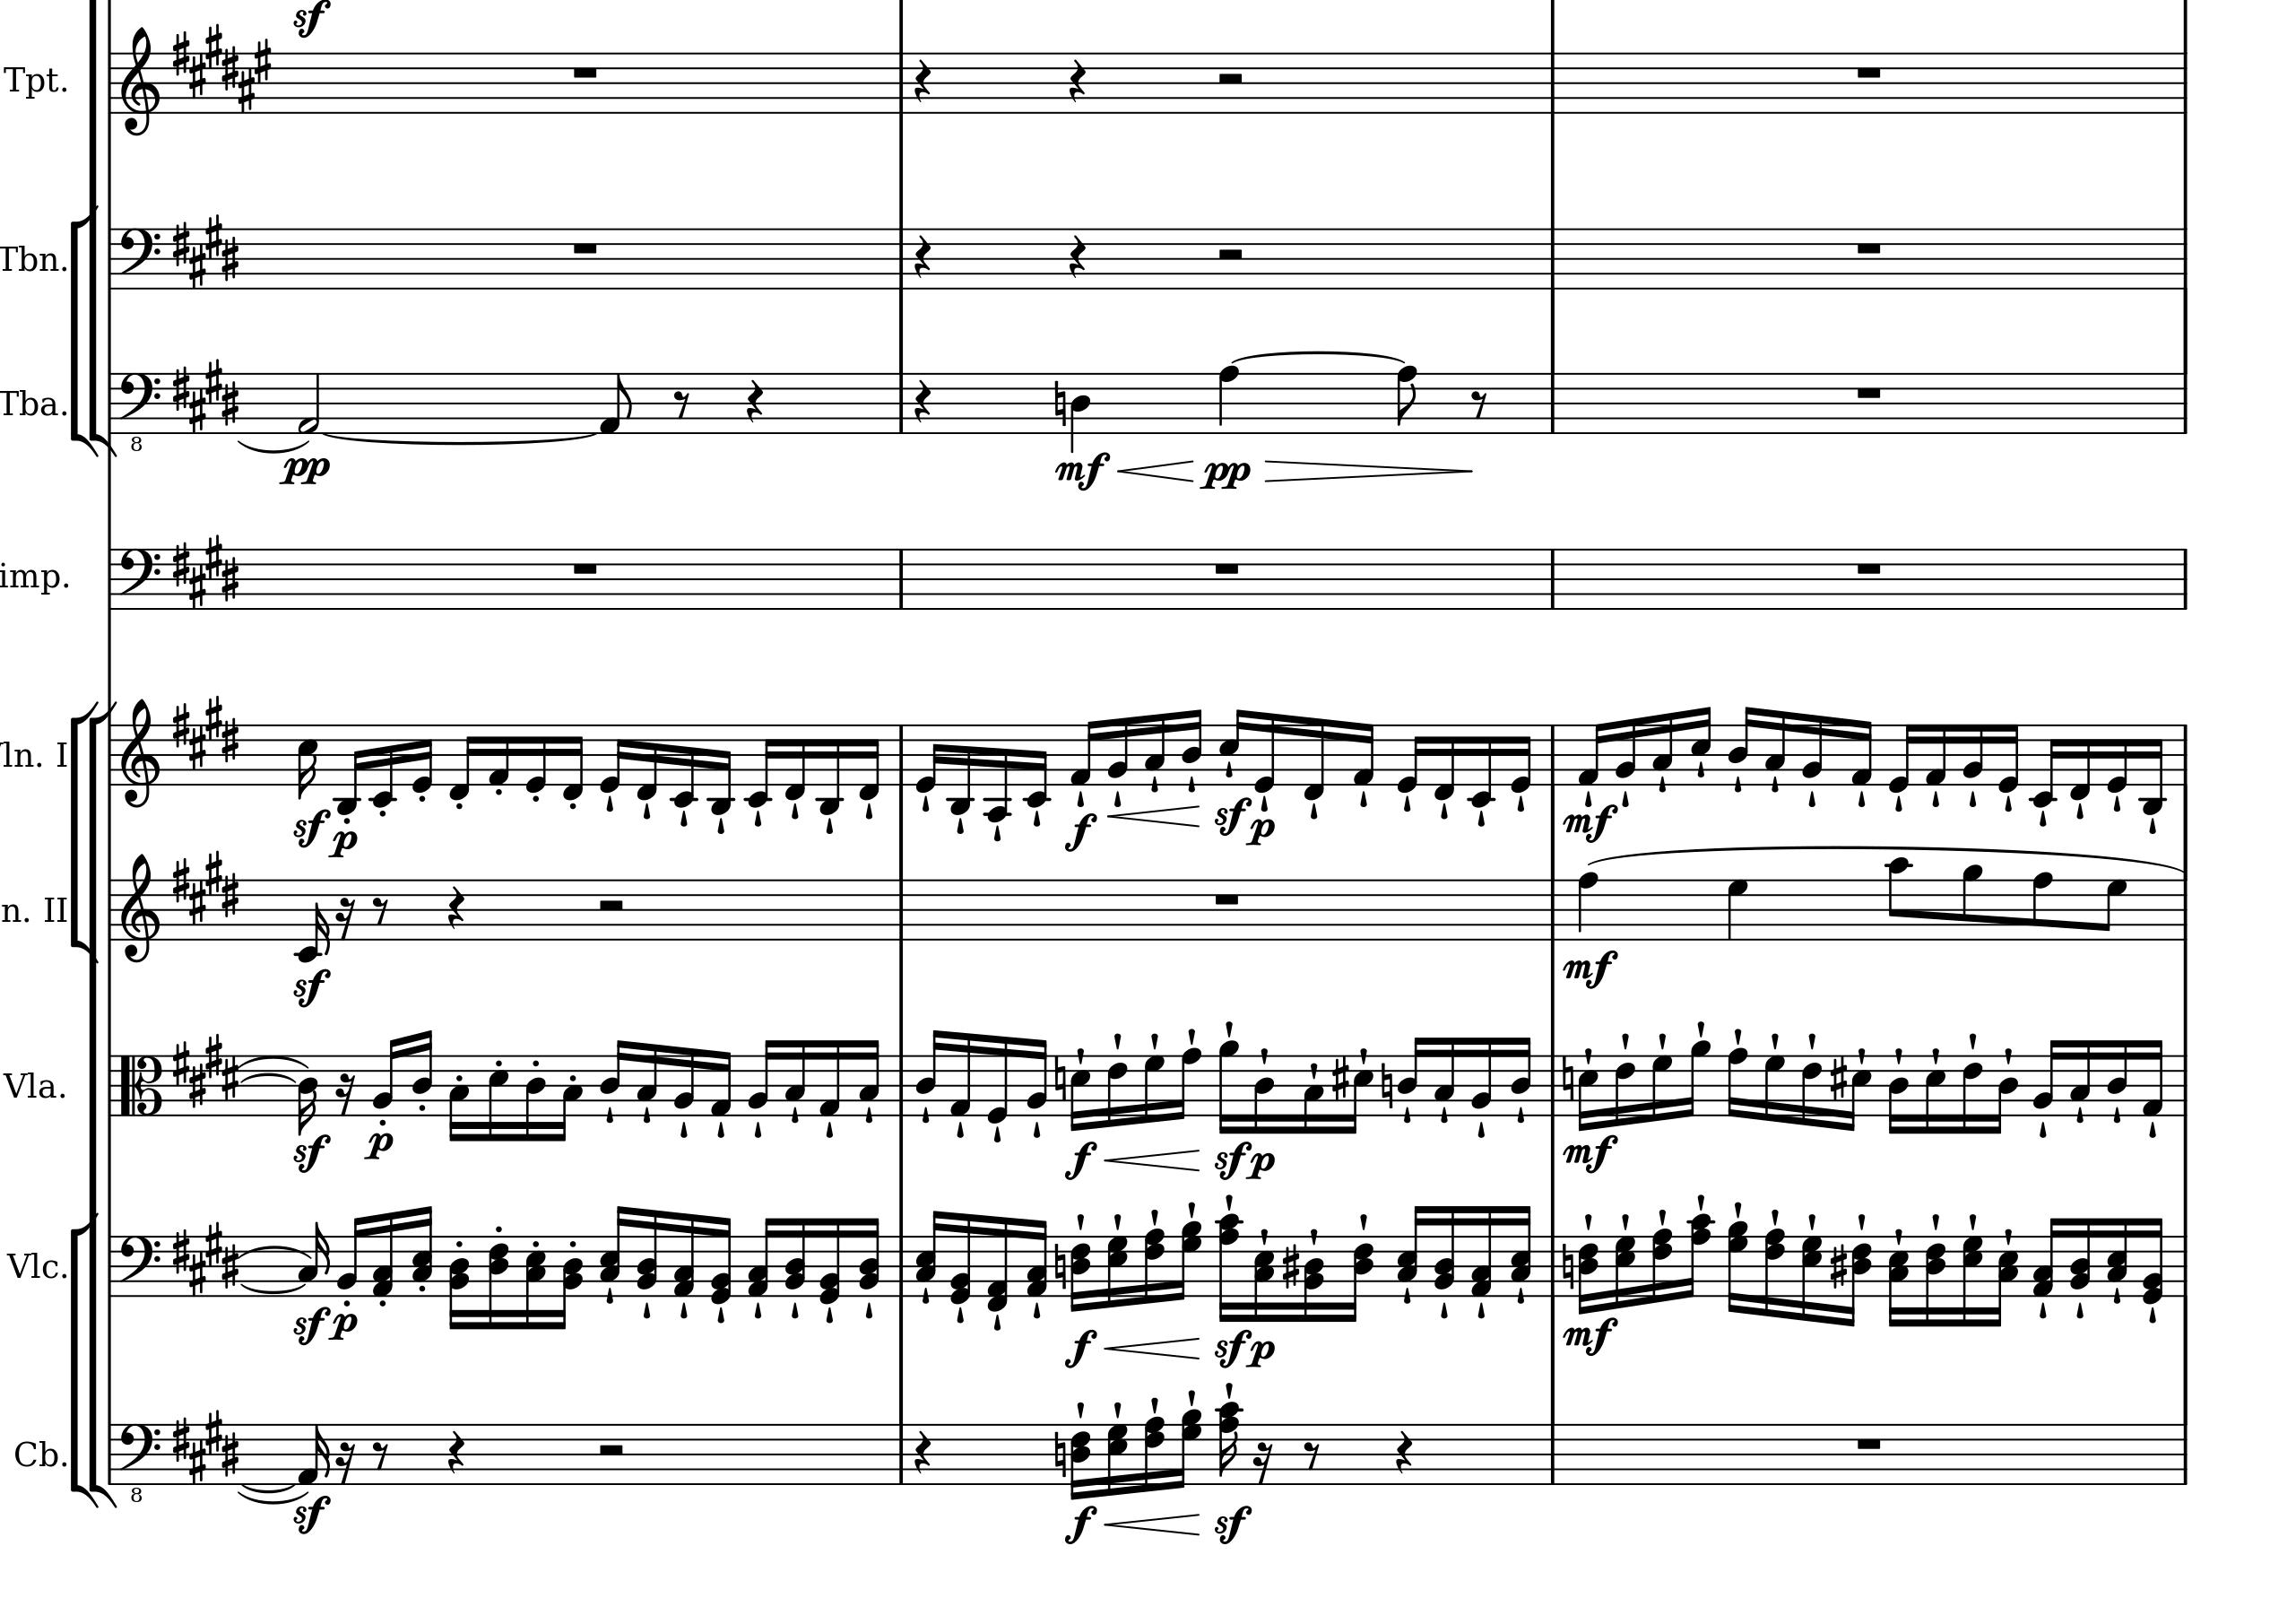16_-1: (448, 722, 478, 801), (1302, 715, 1326, 801), (560, 722, 585, 801), (634, 722, 659, 801), (857, 722, 882, 801), (2068, 722, 2092, 801), (783, 722, 806, 801), (1433, 722, 1456, 801)
16_-1_1: (986, 1214, 1012, 1313)
16_-2: (293, 877, 330, 961), (2029, 722, 2061, 808), (745, 722, 775, 808), (369, 722, 395, 808), (671, 722, 697, 807), (1467, 722, 1493, 807), (1024, 722, 1049, 808)
16_-3: (334, 722, 364, 814), (815, 721, 841, 816), (947, 722, 973, 814), (708, 722, 733, 816), (2140, 722, 2164, 816)
16_-4: (984, 721, 1010, 821)
16_0: (1885, 722, 1917, 793), (597, 722, 627, 794), (1395, 722, 1425, 794), (986, 1032, 1008, 1125), (1253, 710, 1277, 793), (913, 722, 942, 793), (409, 722, 434, 794), (523, 722, 548, 794), (1996, 722, 2020, 794), (1509, 722, 1534, 793), (2105, 722, 2129, 793)
16_0_2: (947, 1211, 973, 1306), (817, 1216, 843, 1306), (710, 1214, 733, 1304), (2141, 1216, 2164, 1306)
16_1: (295, 1422, 330, 1485), (1068, 717, 1100, 786), (947, 1030, 971, 1118), (817, 1037, 841, 1118), (1576, 721, 1606, 786), (1848, 717, 1874, 787), (2141, 1037, 2162, 1118), (1924, 721, 1948, 787), (708, 1048, 731, 1118), (487, 722, 511, 787), (1351, 721, 1375, 786)
16_1_3: (2031, 1216, 2062, 1297), (748, 1216, 778, 1299), (671, 1211, 697, 1299), (1469, 1206, 1493, 1299), (372, 1213, 397, 1297), (1026, 1216, 1051, 1297)
16_2: (336, 1214, 365, 1297), (371, 1035, 401, 1116), (2031, 1037, 2061, 1116), (747, 1037, 775, 1116), (1024, 1035, 1049, 1118), (1470, 1033, 1493, 1118), (1801, 712, 1825, 787), (671, 1044, 696, 1116), (1107, 715, 1130, 786), (1614, 715, 1637, 786), (1960, 721, 1985, 786)
16_2_4: (555, 1236, 583, 1332), (634, 1207, 661, 1299), (1433, 1206, 1458, 1297), (448, 1234, 471, 1330), (1303, 1234, 1326, 1325), (783, 1216, 808, 1299), (2069, 1216, 2094, 1297), (857, 1216, 880, 1299)
16_3: (297, 1220, 330, 1295), (555, 1053, 583, 1142), (1762, 707, 1787, 787), (634, 1039, 659, 1120), (2068, 1037, 2092, 1118), (857, 1037, 880, 1121), (1433, 1033, 1456, 1118), (448, 1053, 469, 1142), (783, 1037, 806, 1118), (1144, 710, 1166, 789), (1651, 710, 1674, 789), (1302, 1056, 1325, 1135)
16_3_5: (597, 1206, 627, 1297), (913, 1207, 943, 1297), (1395, 1204, 1425, 1294), (1885, 1234, 1913, 1329), (1990, 1234, 2018, 1329), (1509, 1206, 1534, 1299), (409, 1206, 434, 1297), (523, 1236, 546, 1332), (1253, 1234, 1277, 1322), (2105, 1216, 2129, 1297)
16_4: (915, 1026, 943, 1120), (597, 1037, 627, 1120), (1727, 705, 1757, 786), (1397, 1033, 1425, 1116), (1990, 1051, 2018, 1134), (1509, 1033, 1532, 1121), (525, 1053, 546, 1142), (1180, 707, 1203, 789), (1253, 1053, 1275, 1135), (1887, 1053, 1910, 1135), (411, 1028, 432, 1116), (295, 1053, 318, 1132), (2106, 1037, 2129, 1116)
16_4_6: (1344, 1234, 1375, 1323), (1845, 1234, 1874, 1327), (487, 1236, 511, 1332), (1924, 1234, 1948, 1327), (1068, 1234, 1093, 1313), (1068, 1422, 1091, 1503), (1576, 1234, 1599, 1313)
16_5: (1843, 1055, 1873, 1132), (487, 1051, 509, 1142), (1217, 707, 1245, 780), (1922, 1051, 1946, 1135), (1346, 1056, 1372, 1134), (1690, 705, 1713, 784), (1068, 1053, 1091, 1132), (295, 722, 318, 800), (1578, 1051, 1599, 1134)
16_5_7: (1799, 1234, 1825, 1323), (1960, 1234, 1985, 1329), (1105, 1234, 1130, 1308), (1105, 1422, 1130, 1496), (1611, 1232, 1634, 1306)
16_6: (1960, 1053, 1983, 1134), (1105, 1051, 1128, 1128), (1801, 1053, 1822, 1128), (1614, 1053, 1635, 1127)
16_6_8: (1764, 1227, 1787, 1322), (1144, 1227, 1166, 1304), (1142, 1415, 1165, 1492), (1650, 1227, 1672, 1304)
16_7: (1142, 1053, 1165, 1125), (1764, 1051, 1785, 1125), (1651, 1051, 1672, 1123)
16_7_9: (1725, 1220, 1750, 1315), (1175, 1220, 1202, 1301), (1173, 1408, 1200, 1487)
16_8: (1173, 1046, 1202, 1120), (1725, 1046, 1748, 1118)
16_8_10: (1214, 1211, 1242, 1323), (1679, 1209, 1715, 1299), (1214, 1401, 1242, 1485)
16_9: (1217, 1037, 1240, 1135), (1683, 1039, 1711, 1118)
2_1: (297, 371, 321, 436)
4_4: (1070, 371, 1093, 453)
4_7: (1727, 877, 1750, 940)
4_8: (1217, 364, 1240, 436), (1576, 870, 1599, 940)
8_1: (597, 373, 634, 434)
8_10: (1887, 854, 1911, 942)
8_7: (2097, 877, 2127, 940)
8_8: (1395, 364, 1419, 434), (2031, 870, 2054, 942)
8_9: (1960, 861, 1983, 942)
B_S: (170, 23, 276, 112)
Bracke: (88, 698, 118, 1508), (69, 1225, 91, 1501), (69, 211, 90, 450), (69, 703, 88, 956)
Cclef: (118, 1051, 163, 1118)
Crescendo_hairpin: (1103, 801, 1207, 828), (1101, 1336, 1200, 1362), (1101, 1510, 1200, 1536), (1103, 1148, 1200, 1172), (1117, 459, 1195, 483)
Diminuendo_hairpin: (1265, 460, 1476, 480)
E_S: (169, 847, 241, 924), (170, 355, 241, 432), (170, 211, 241, 286), (170, 533, 241, 608), (170, 1408, 241, 1483), (170, 694, 241, 768), (170, 1032, 239, 1107), (172, 1218, 239, 1295)
Fclef: (118, 227, 162, 292), (118, 547, 162, 612), (118, 1234, 162, 1299)
Gclef: (119, 25, 162, 137), (119, 851, 162, 963), (119, 698, 162, 808)
Lower_Fclef: (118, 369, 162, 453), (118, 1420, 162, 1503)
Natural: (1379, 1060, 1395, 1111), (1560, 1243, 1576, 1290), (1052, 1055, 1066, 1106), (1052, 1241, 1066, 1292), (1052, 378, 1066, 427), (1052, 1429, 1066, 1478), (1562, 1056, 1574, 1104)
Ob: (12, 1432, 61, 1473)
Rests1: (1853, 237, 1885, 257), (1853, 381, 1885, 401), (1853, 559, 1885, 578), (1853, 1432, 1885, 1452), (1210, 889, 1244, 907), (569, 63, 601, 81), (1853, 63, 1885, 81), (569, 559, 601, 576), (1210, 559, 1242, 576), (569, 239, 601, 255)
Rests16: (334, 895, 357, 940), (334, 1070, 357, 1116), (1253, 1439, 1274, 1485), (336, 1439, 357, 1483)
Rests2: (1214, 246, 1245, 264), (594, 896, 627, 912), (596, 1441, 627, 1457), (1216, 70, 1245, 86)
Rests4: (1066, 234, 1089, 279), (1066, 58, 1087, 104), (913, 232, 933, 279), (745, 378, 764, 425), (446, 884, 466, 932), (913, 58, 933, 104), (913, 378, 933, 424), (446, 1429, 466, 1475), (913, 1429, 933, 1475), (1395, 1429, 1414, 1475)
Rests8: (1469, 388, 1490, 420), (671, 388, 690, 420), (1302, 1439, 1321, 1469), (371, 895, 388, 926), (371, 1439, 388, 1469)
Sharp: (1829, 1055, 1848, 1102), (1281, 1243, 1300, 1290), (1829, 1243, 1848, 1290), (1330, 1055, 1349, 1100)
Single_barline: (2173, 548, 2194, 608), (1542, 548, 1563, 608), (2175, 879, 2194, 940), (1544, 228, 1563, 288), (1544, 373, 1563, 432), (2173, 373, 2192, 432), (891, 548, 910, 608), (1544, 879, 1563, 939), (1544, 53, 1562, 112), (2175, 53, 2192, 112), (2175, 228, 2192, 288), (1544, 724, 1562, 784), (892, 879, 910, 939), (891, 1424, 908, 1483), (1544, 1424, 1562, 1483), (2175, 1424, 2192, 1483), (891, 53, 908, 111), (2177, 722, 2192, 786), (892, 724, 908, 786), (2177, 1055, 2192, 1116), (2177, 1236, 2192, 1297), (892, 373, 908, 432), (892, 1055, 908, 1114), (1544, 1055, 1560, 1114), (102, 1055, 118, 1114), (892, 1236, 908, 1295), (1544, 1236, 1560, 1295), (892, 228, 908, 286), (104, 373, 118, 434), (104, 53, 118, 112), (104, 724, 118, 784), (104, 879, 118, 939), (104, 1424, 118, 1483), (104, 228, 118, 286), (104, 550, 118, 608), (104, 1237, 118, 1295)
Slur: (1230, 350, 1412, 364), (235, 438, 313, 453), (234, 1485, 309, 1499), (235, 1056, 309, 1069), (235, 1246, 313, 1257), (237, 1283, 309, 1292), (239, 1072, 295, 1083)
Staccatissimo: (1853, 1211, 1869, 1230), (639, 801, 655, 821), (861, 801, 877, 821), (1657, 773, 1669, 798), (750, 1120, 764, 1141), (1309, 1060, 1323, 1081), (1402, 1106, 1416, 1127), (2112, 1287, 2126, 1308), (604, 1104, 617, 1127), (1514, 796, 1530, 814), (2036, 808, 2050, 828), (2034, 1120, 2048, 1139), (822, 1120, 836, 1139), (1929, 1211, 1943, 1230), (1966, 1211, 1980, 1230), (1581, 1211, 1595, 1230), (676, 808, 690, 828), (1929, 789, 1943, 808), (2112, 794, 2126, 814), (1514, 1287, 1528, 1306), (1188, 773, 1200, 794), (1309, 801, 1321, 823), (1620, 787, 1632, 808), (1806, 787, 1818, 808), (641, 1104, 653, 1125), (715, 1118, 727, 1139), (789, 1104, 801, 1125), (1583, 1046, 1595, 1067), (2003, 1046, 2015, 1067), (1855, 789, 1869, 807), (991, 824, 1005, 842), (1966, 1032, 1980, 1049), (1855, 1046, 1869, 1063), (2034, 1301, 2048, 1318), (2073, 1301, 2087, 1318), (822, 1306, 836, 1323), (789, 803, 803, 821), (2003, 1227, 2013, 1250), (791, 1299, 801, 1322), (1147, 773, 1159, 793), (2147, 816, 2159, 835), (1112, 1030, 1124, 1049), (1073, 1044, 1086, 1063), (919, 1106, 931, 1125), (1476, 1120, 1488, 1139), (2147, 1120, 2159, 1139), (991, 1123, 1003, 1142), (1075, 1211, 1087, 1230), (1358, 1211, 1370, 1230), (1806, 1211, 1818, 1230), (752, 808, 764, 828), (824, 817, 836, 837), (1031, 808, 1043, 828), (1476, 810, 1488, 830), (1693, 759, 1706, 779), (1516, 1106, 1528, 1125), (752, 1301, 764, 1320), (641, 1301, 653, 1320), (2001, 794, 2015, 810), (1029, 1121, 1043, 1137), (1767, 1207, 1781, 1223), (606, 793, 617, 814), (1894, 1227, 1904, 1248), (606, 1287, 617, 1308), (1073, 789, 1086, 807), (1110, 789, 1123, 807), (1186, 1025, 1198, 1042), (1806, 1032, 1818, 1049), (1769, 1032, 1781, 1049), (1929, 1046, 1941, 1063), (1437, 1106, 1449, 1123), (2073, 1106, 2085, 1123), (954, 1120, 966, 1137), (1695, 1192, 1708, 1209), (1620, 1211, 1632, 1229), (1031, 1301, 1043, 1318), (863, 1301, 875, 1318), (954, 1306, 966, 1323), (991, 1313, 1003, 1330), (1258, 794, 1270, 812), (1309, 1225, 1319, 1244), (1075, 1399, 1086, 1418), (715, 816, 726, 835), (956, 816, 966, 835), (1439, 801, 1449, 821), (1769, 773, 1780, 793), (1967, 789, 1978, 808), (678, 1120, 689, 1139), (2147, 1306, 2157, 1325), (1223, 761, 1235, 777), (1581, 789, 1593, 805), (1892, 794, 1904, 810), (1223, 1019, 1235, 1035), (1695, 1019, 1708, 1035), (1732, 1026, 1744, 1042), (1258, 1046, 1270, 1062), (2112, 1107, 2124, 1123), (1186, 1200, 1198, 1216), (1732, 1200, 1744, 1216), (1400, 1288, 1412, 1304), (1149, 1030, 1159, 1048), (1657, 1032, 1667, 1049), (1224, 1192, 1235, 1209), (1149, 1206, 1159, 1223), (1112, 1211, 1123, 1229), (1260, 1225, 1270, 1243), (1439, 1301, 1449, 1318), (1476, 1301, 1486, 1318), (1224, 1380, 1235, 1397), (1149, 1394, 1159, 1411), (1112, 1399, 1123, 1417), (921, 794, 931, 812), (1360, 787, 1368, 808), (1402, 794, 1412, 812), (1732, 775, 1743, 793), (864, 1104, 873, 1125), (717, 1304, 726, 1325), (680, 1299, 689, 1320), (2073, 803, 2085, 817), (1360, 1046, 1368, 1065), (1894, 1046, 1903, 1065), (1620, 1032, 1630, 1048), (1657, 1207, 1667, 1223), (1188, 1387, 1196, 1404), (921, 1287, 929, 1304)
Tbn: (2, 239, 61, 279)
Tpt: (2, 60, 58, 100)
Trb: (2, 380, 58, 424)
Vla: (2, 1065, 58, 1107)
Vlc: (4, 1244, 60, 1285)
f: (1063, 810, 1100, 851), (1063, 1327, 1098, 1369), (1063, 1503, 1098, 1545), (1063, 1139, 1096, 1179)
ff: (1207, 1329, 1251, 1369)
mf: (1560, 947, 1620, 991), (1562, 1132, 1620, 1176), (1562, 801, 1620, 844), (1052, 452, 1112, 492), (1562, 1315, 1618, 1357)
p: (1247, 1146, 1277, 1181), (327, 828, 358, 859), (362, 1130, 393, 1162), (1245, 1338, 1275, 1371), (1245, 816, 1275, 847), (329, 1311, 358, 1343)
pp: (1200, 457, 1253, 492), (279, 455, 330, 487)
sf: (290, 967, 330, 1007), (1212, 1141, 1253, 1181), (292, 1132, 330, 1172), (292, 1494, 330, 1534), (292, 1304, 329, 1346), (292, 807, 329, 847), (1214, 1504, 1251, 1543), (1214, 796, 1249, 837), (292, 2, 330, 37)
